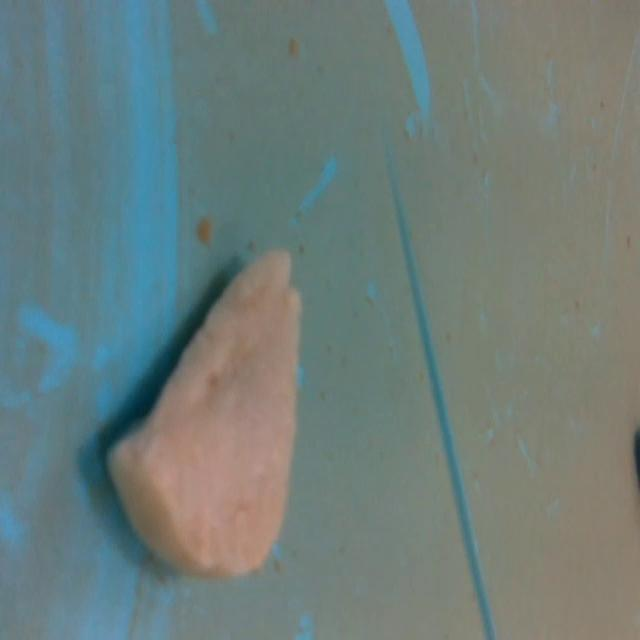rock: (97, 238, 310, 588)
